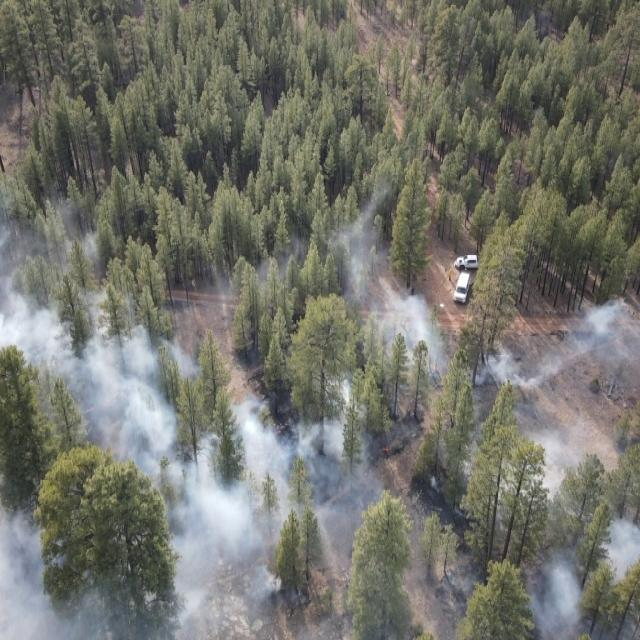fire: (374, 437, 396, 461)
smoke: (0, 199, 198, 459), (138, 459, 288, 640), (226, 187, 400, 307), (470, 295, 640, 397), (0, 494, 113, 640), (199, 375, 372, 460), (464, 421, 584, 498), (289, 461, 386, 532), (374, 294, 460, 374), (529, 544, 583, 640), (597, 508, 640, 582)
